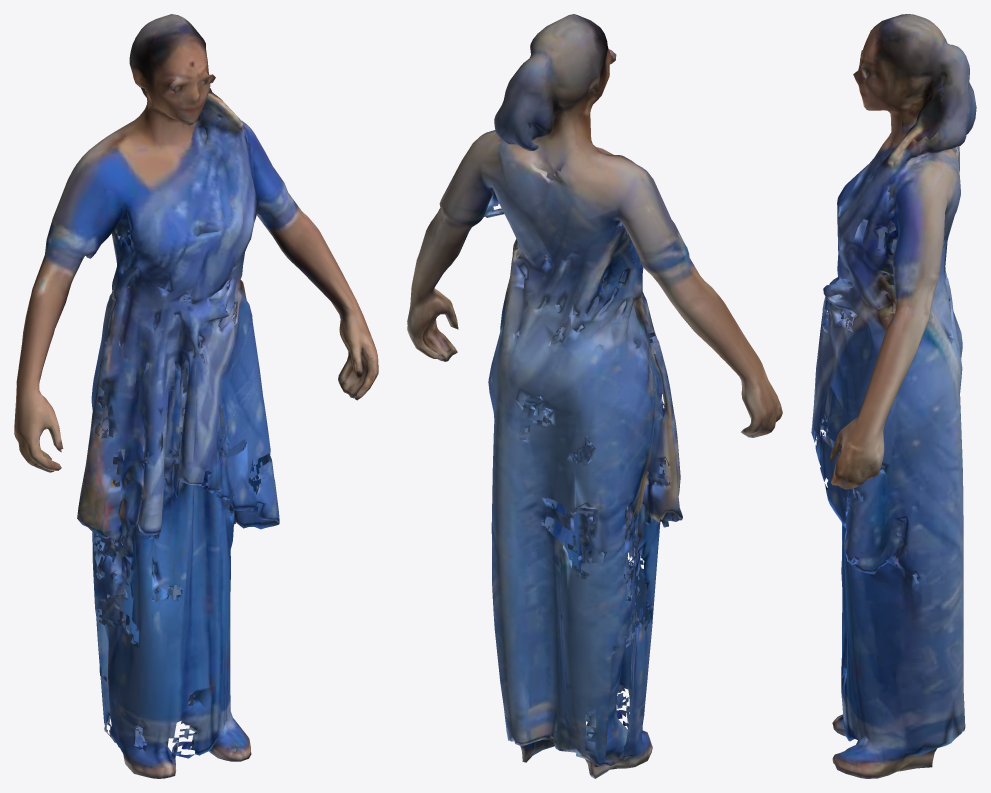
File: bd_w_saree_blue.glb
3 renders of one model, left to right at view 1: azimuth 30°, elevation 25°; view 2: azimuth 150°, elevation 25°; view 3: azimuth 270°, elevation 25°, orthographic. The views are drawn at different scales.
Visible parts, largest first — view 1: Mesh_0_Material_0_0; view 2: Mesh_0_Material_0_0; view 3: Mesh_0_Material_0_0.
Boxes of the visible parts, <box> form: Mesh_0_Material_0_0: <box>14,14,378,778</box>; Mesh_0_Material_0_0: <box>407,14,782,778</box>; Mesh_0_Material_0_0: <box>811,14,976,778</box>.
Bounding box in the file's own units: 1.01 × 2 × 0.4072.
Materials: 1 (1 with a texture image).
